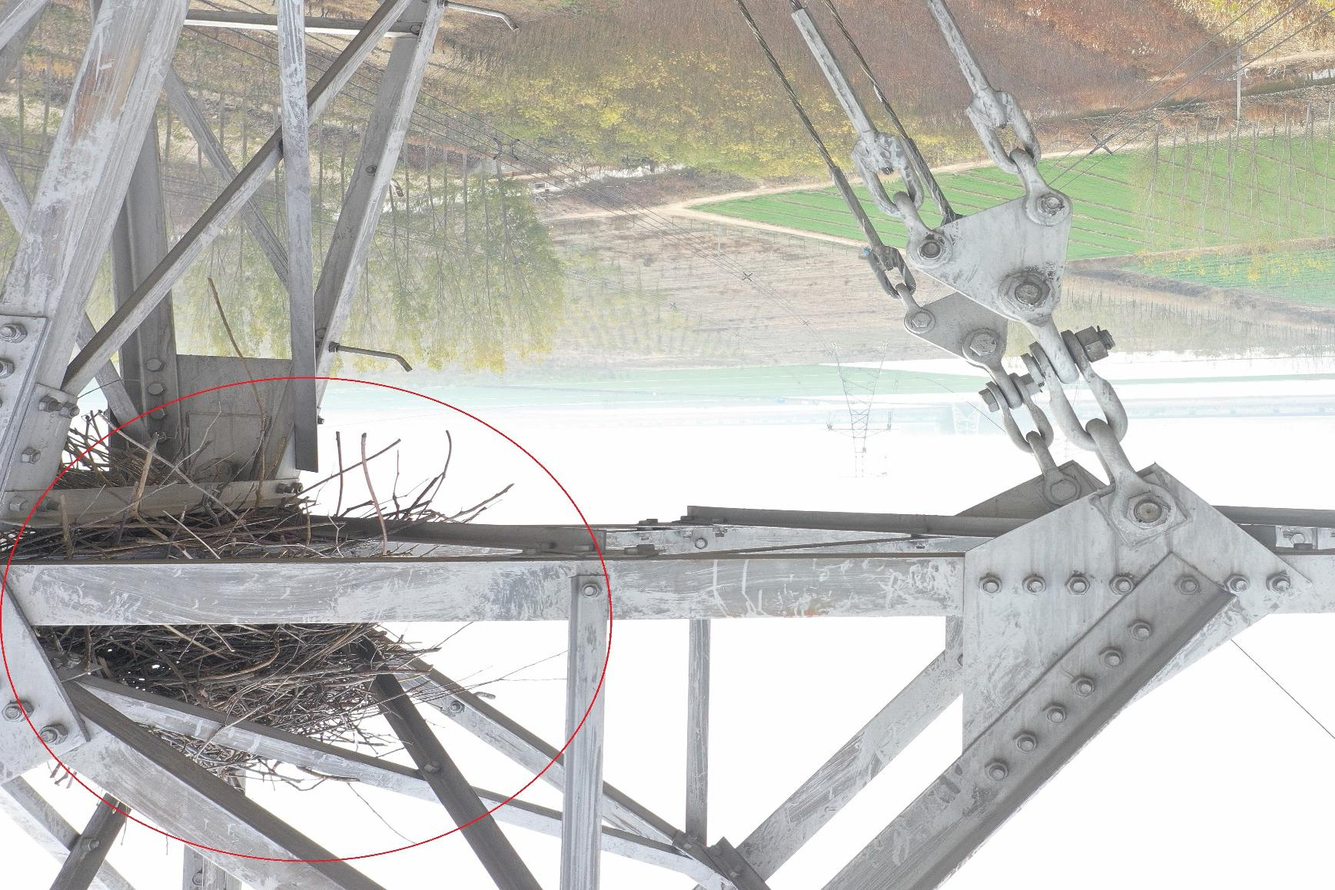nest: (1, 392, 479, 800)
